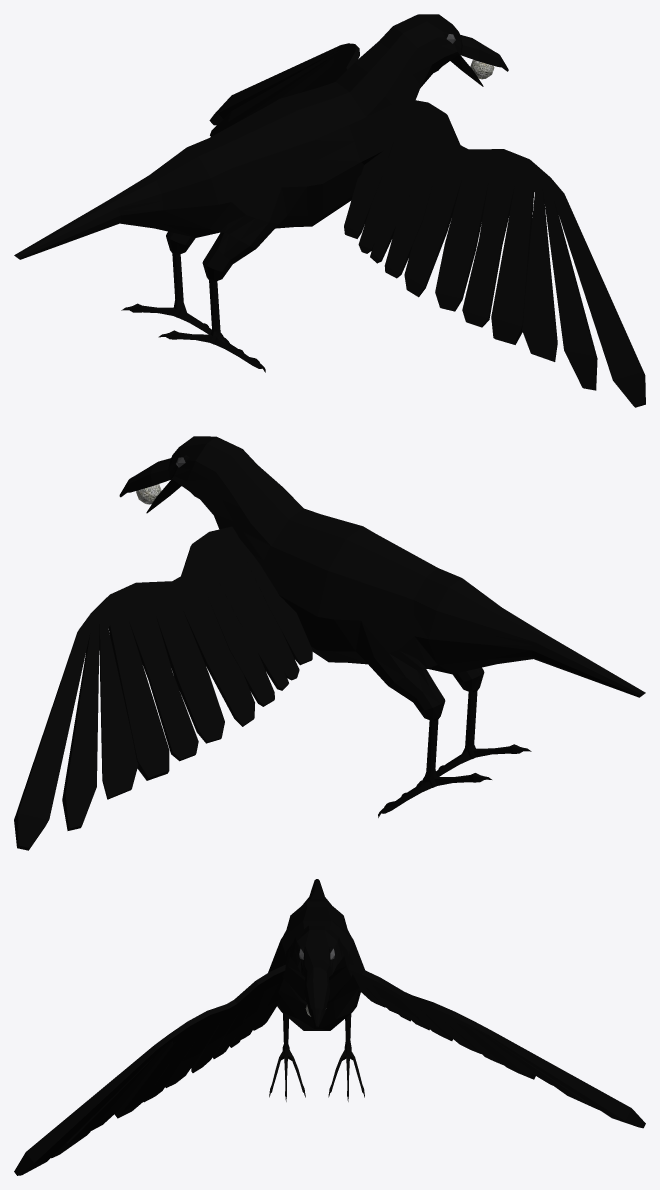
File: crow_up_stone_000004.obj
3 renders of one model, top to bottom at view 1: azimuth 30°, elevation 25°; view 2: azimuth 150°, elevation 25°; view 3: azimuth 270°, elevation 25°, orthographic. The views are drawn at different scales.
Visible parts, largest first — view 1: Cylinder; view 2: Cylinder; view 3: Cylinder.
Part boxes in pixels (bbox=[...]): Cylinder: bbox=[14, 14, 645, 407]; Cylinder: bbox=[14, 436, 645, 850]; Cylinder: bbox=[14, 879, 645, 1175].
Bounding box in the file's own units: 1.61 × 0.9098 × 2.11.
